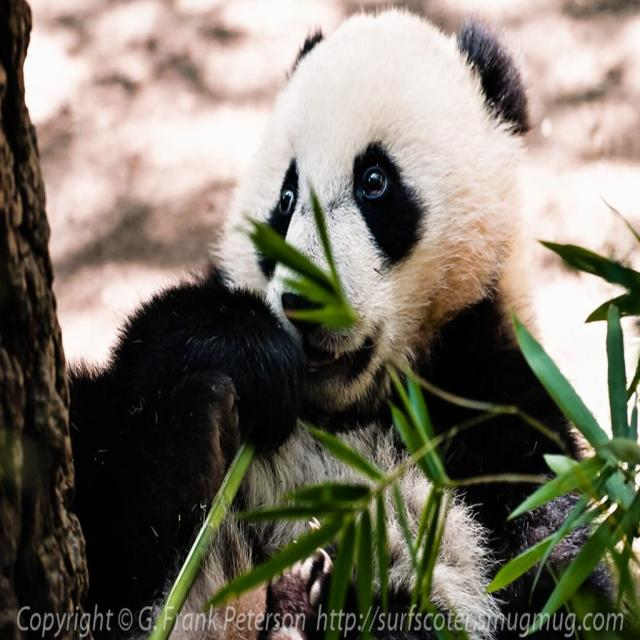panda: (68, 4, 637, 639)
